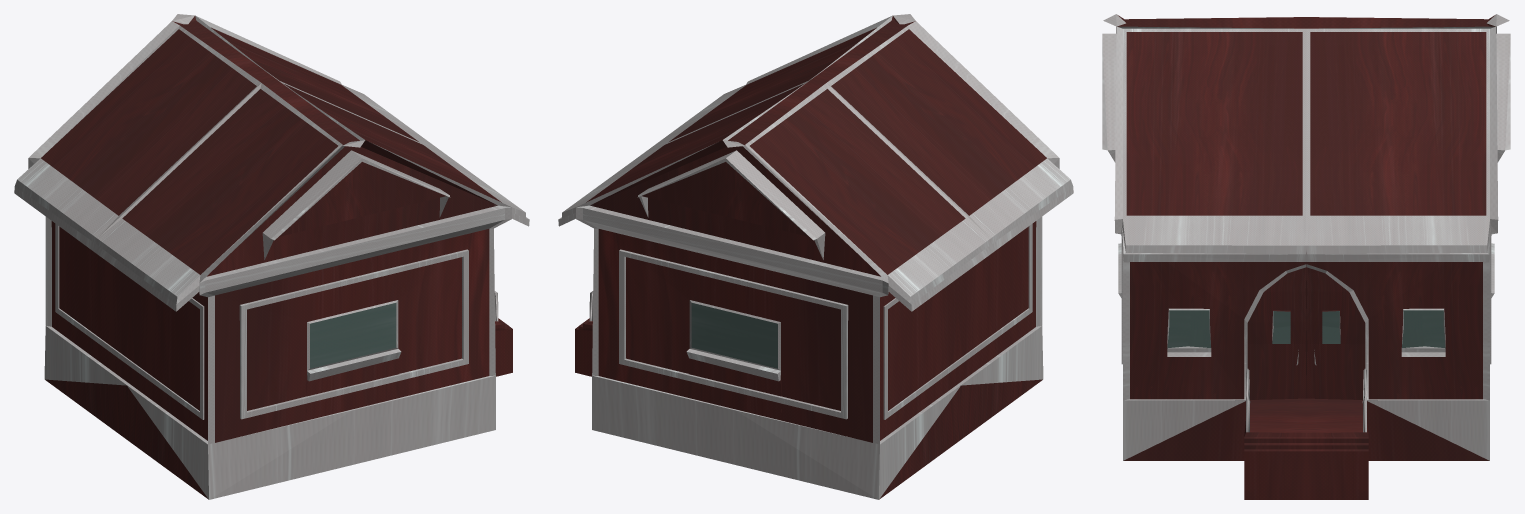
File: Barn Colliders.fbx
3 renders of one model, left to right at view 1: azimuth 30°, elevation 25°; view 2: azimuth 150°, elevation 25°; view 3: azimuth 270°, elevation 25°, orthographic. The views are drawn at different scales.
Parts seen in each view (by area): view 1: Cube; view 2: Cube; view 3: Cube.
Boxes of the visible parts, box(x1,y1,x2,y2) form: Cube: box(14, 14, 529, 499); Cube: box(558, 14, 1073, 499); Cube: box(1102, 14, 1510, 499).
Bounding box in the file's own units: 2499 × 1987 × 2032.
